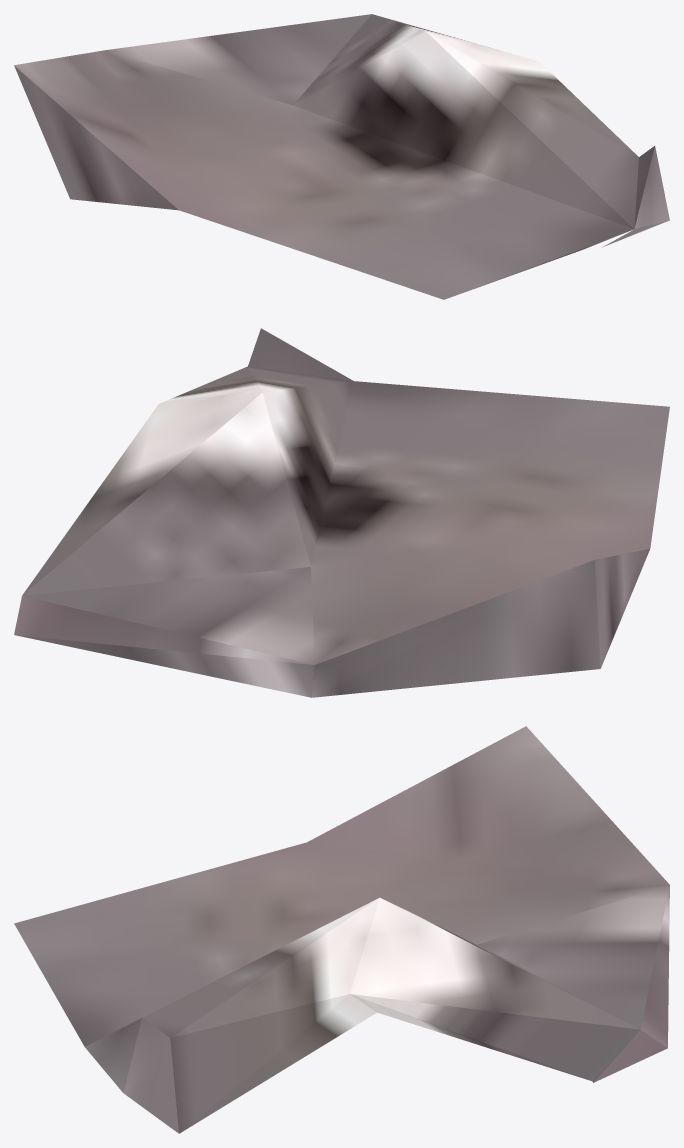
3 views of the same model, one above another, from view 1: azimuth 30°, elevation 25°; view 2: azimuth 150°, elevation 25°; view 3: azimuth 270°, elevation 25° (orthographic). The views are drawn at different scales.
Parts seen in each view (by area): view 1: Mesh_0; view 2: Mesh_0; view 3: Mesh_0.
Part boxes in pixels (bbox=[...]): Mesh_0: bbox=[14, 14, 669, 299]; Mesh_0: bbox=[14, 328, 669, 697]; Mesh_0: bbox=[14, 726, 669, 1133].
Bounding box in the file's own units: 3.77 × 1.33 × 4.44.
Materials: 1 (1 with a texture image).
